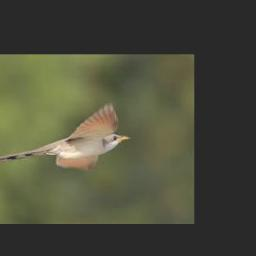Cuckoo: (0, 104, 130, 167)
